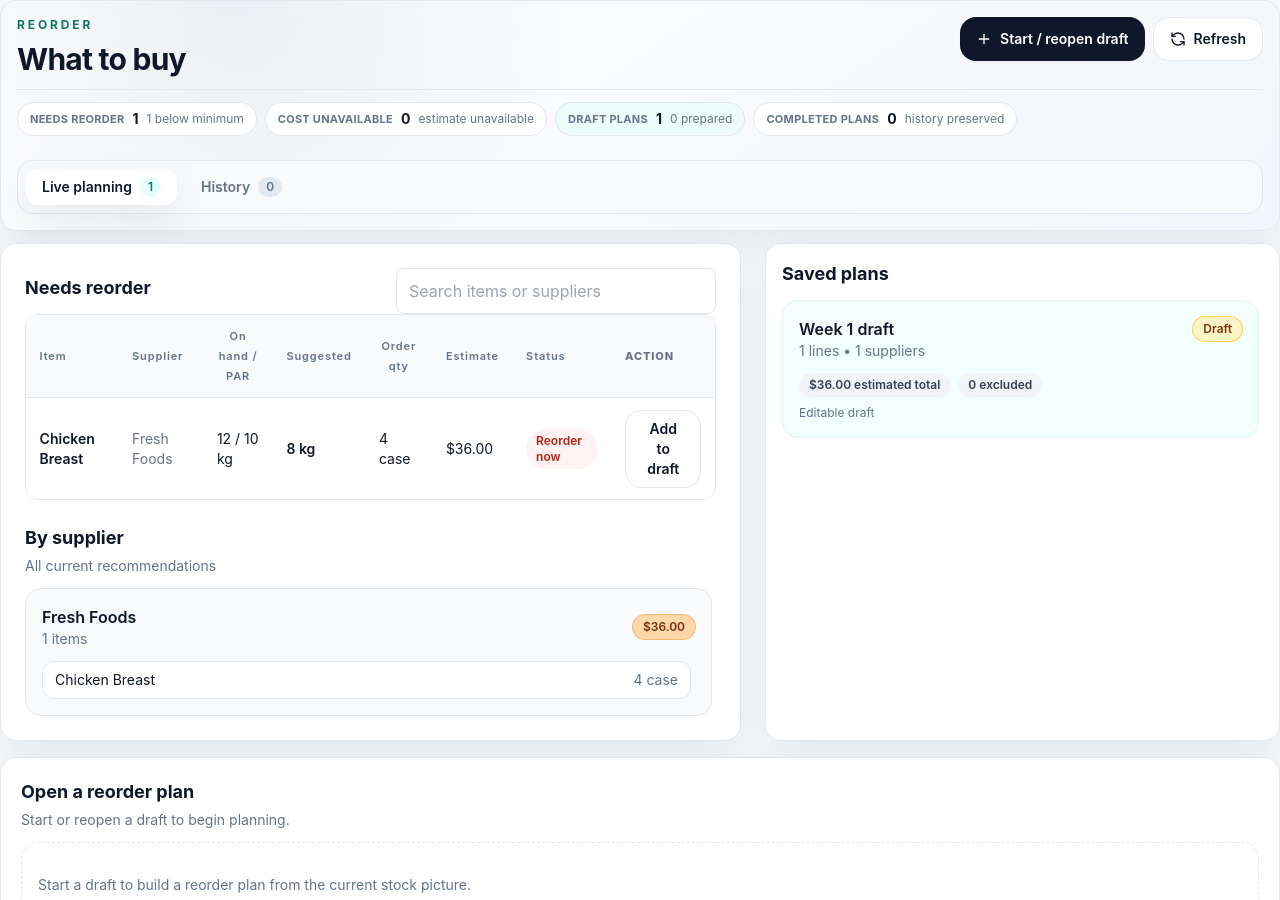
Scenario: PilotReorderPlanPage › omits redundant one-to-one conversion labels
Click the button "Week 1 draft". click: (847, 329)
box: [782,300,1259,438]
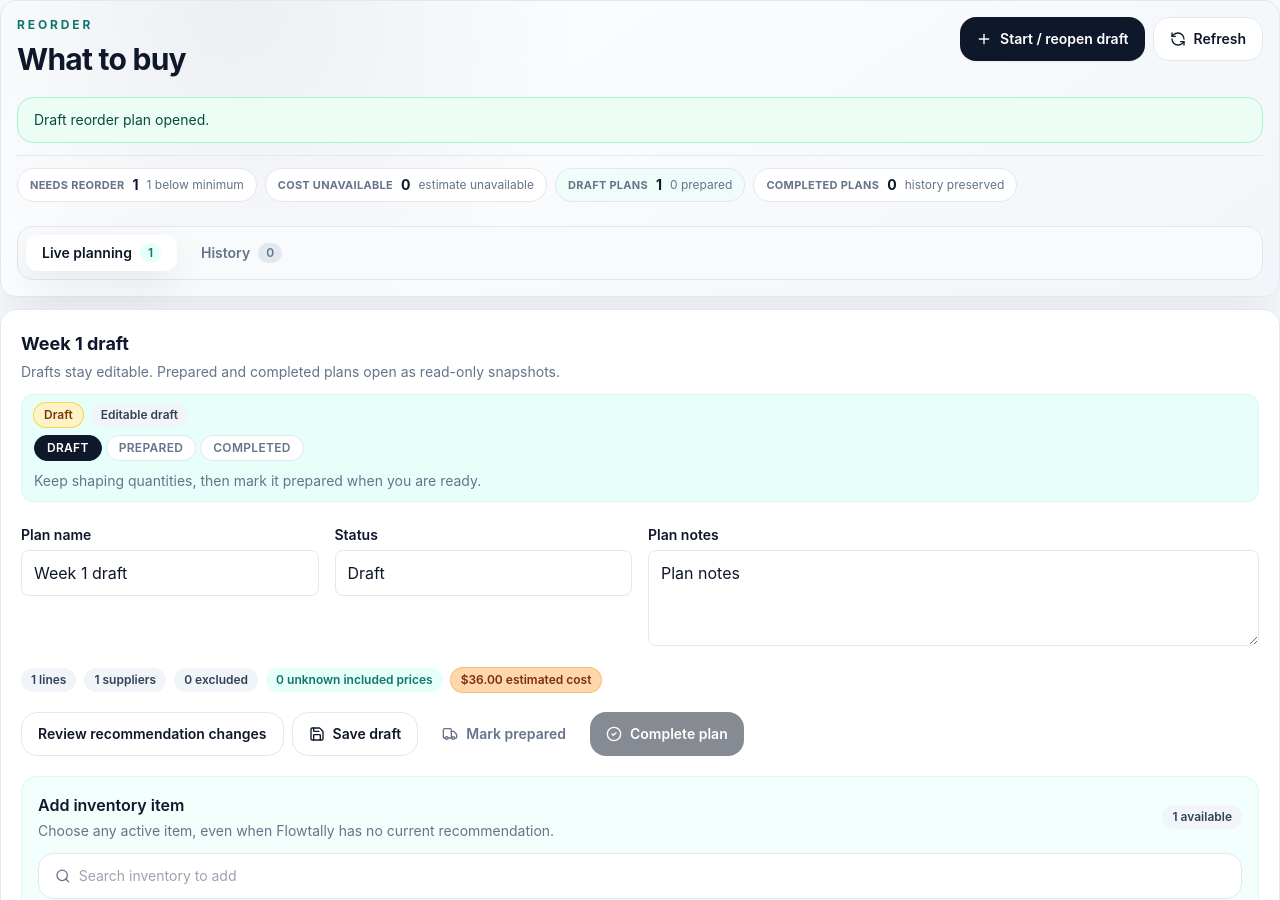
Expected: the text "Draft reorder plan opened." is shown, [17,97,1263,143]
